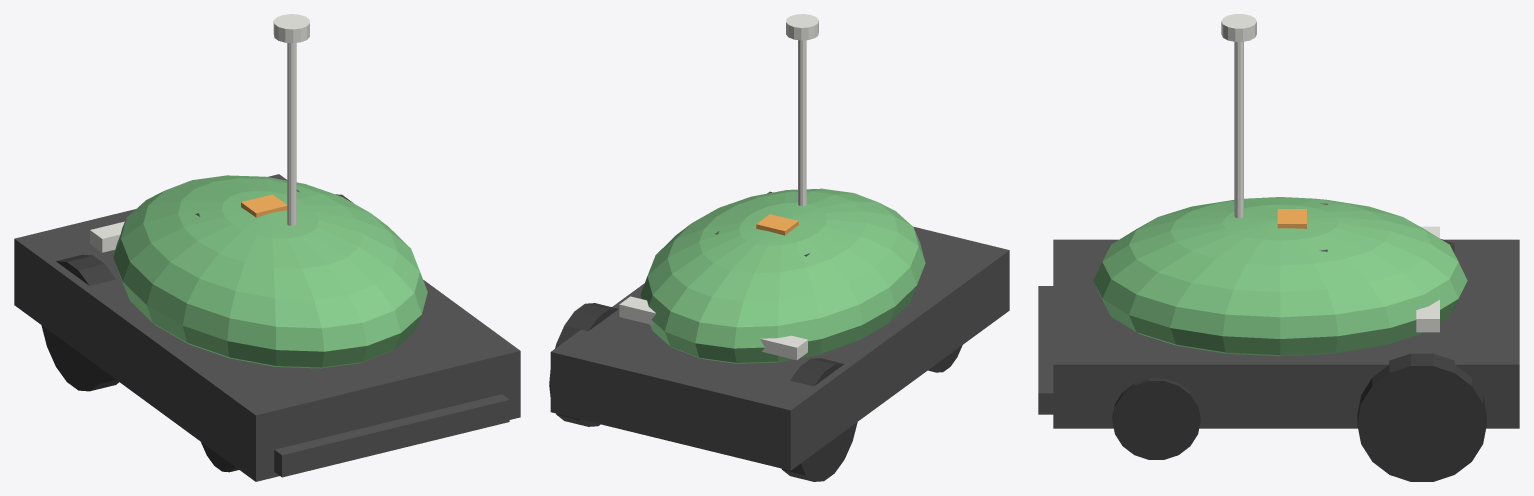
File: mower_riding.glb
3 views of the same model, side by side, from view 1: azimuth 30°, elevation 25°; view 2: azimuth 150°, elevation 25°; view 3: azimuth 270°, elevation 25° (orthographic). The views are drawn at different scales.
Visible parts, largest first — view 1: RobotMowerRiding; view 2: RobotMowerRiding; view 3: RobotMowerRiding.
Part boxes in pixels (<box>): RobotMowerRiding: <box>14,14,520,481</box>; RobotMowerRiding: <box>549,14,1009,481</box>; RobotMowerRiding: <box>1038,14,1519,481</box>.
Bounding box in the file's own units: 1.07 × 1.46 × 1.63.
